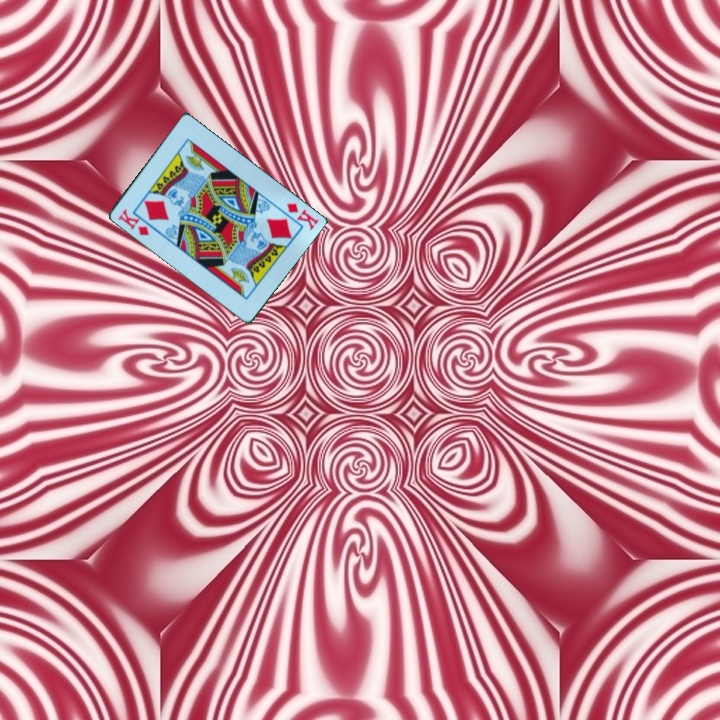Kd: (283, 199, 322, 233), (114, 205, 152, 239)
